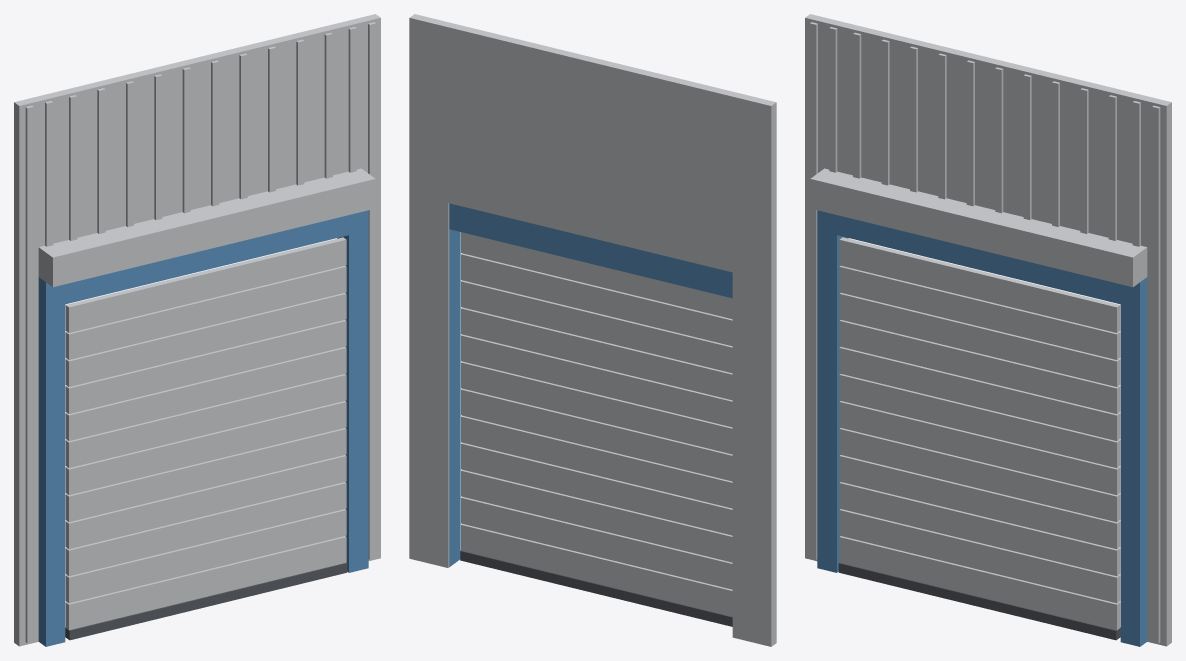
File: hall-roller-door-bay.glb
3 renders of one model, left to right at view 1: azimuth 30°, elevation 25°; view 2: azimuth 150°, elevation 25°; view 3: azimuth 330°, elevation 25°, orthographic.
Parts seen in each view (by area): view 1: hall-roller-door-bay, shutter/steel, shutter/dark; view 2: hall-roller-door-bay, shutter/steel, shutter/dark; view 3: hall-roller-door-bay, shutter/steel, shutter/dark.
Boxes of the visible parts, x1,y1,x2,y2 form: hall-roller-door-bay: (14,14,380,646); shutter/steel: (65,237,346,630); shutter/dark: (65,562,347,640); hall-roller-door-bay: (409,14,776,646); shutter/steel: (461,232,732,616); shutter/dark: (460,550,732,626); hall-roller-door-bay: (805,14,1171,646); shutter/steel: (839,237,1120,630); shutter/dark: (838,562,1120,640).
Size of the model in its own units: 5.6 by 8 by 0.5195.
